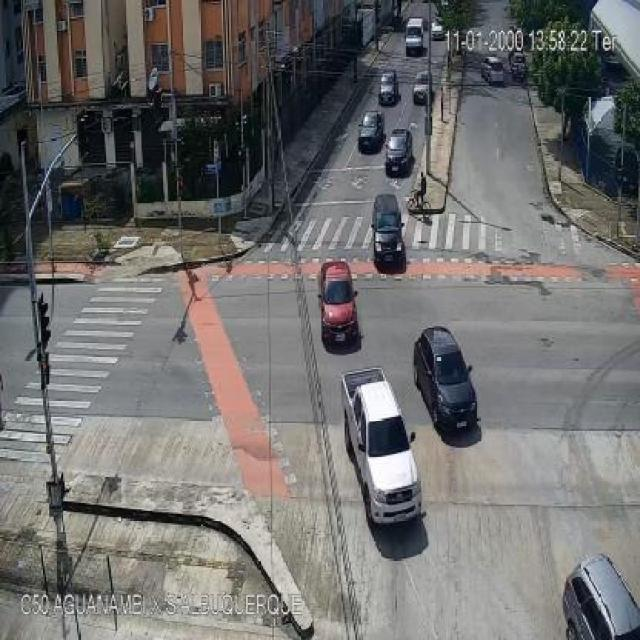Car: (410, 326, 480, 428), (561, 555, 640, 640), (316, 260, 359, 344), (384, 128, 413, 178), (358, 109, 384, 150), (410, 70, 434, 101), (379, 70, 397, 103), (430, 15, 446, 37)
Cycle: (407, 189, 434, 220)
Truck: (339, 369, 422, 525)
Van: (404, 17, 424, 55)
